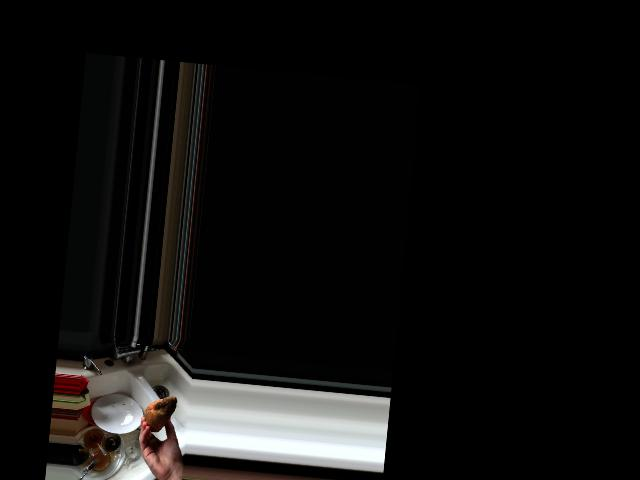sweet_potato: (142, 393, 180, 434)
